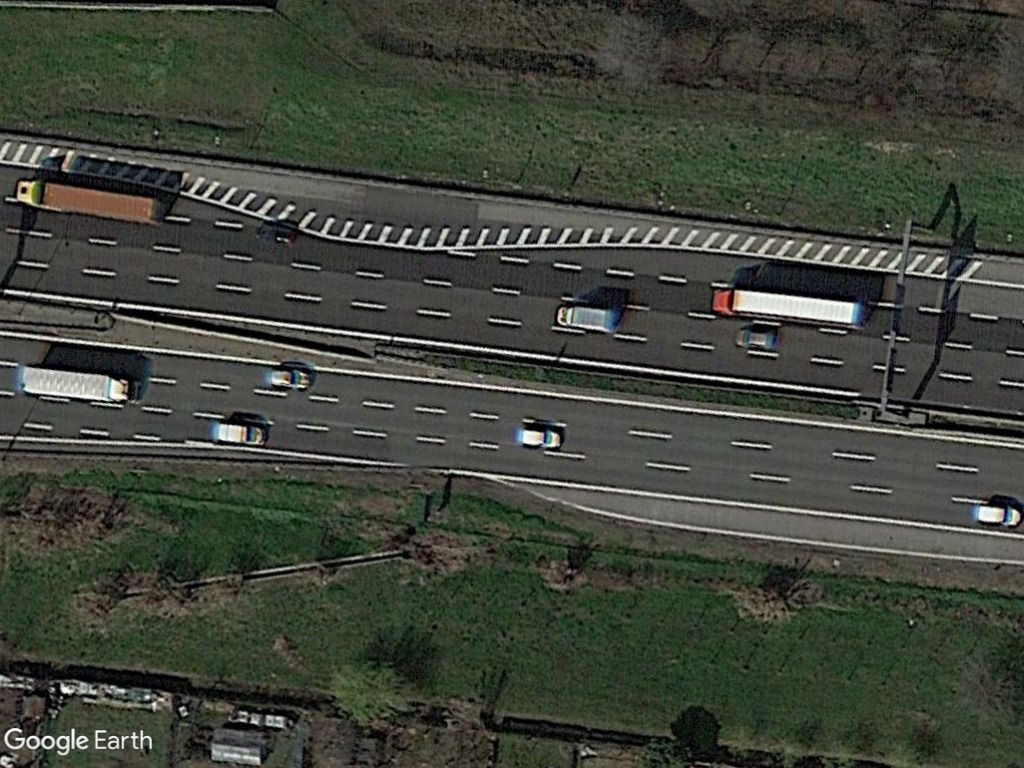car: (513, 422, 565, 452), (262, 365, 316, 392), (972, 502, 1024, 528), (731, 325, 777, 350)
longvehicle: (10, 176, 164, 228), (707, 286, 870, 329), (16, 363, 148, 408)
truck: (553, 303, 619, 333)
van: (208, 419, 271, 449)
